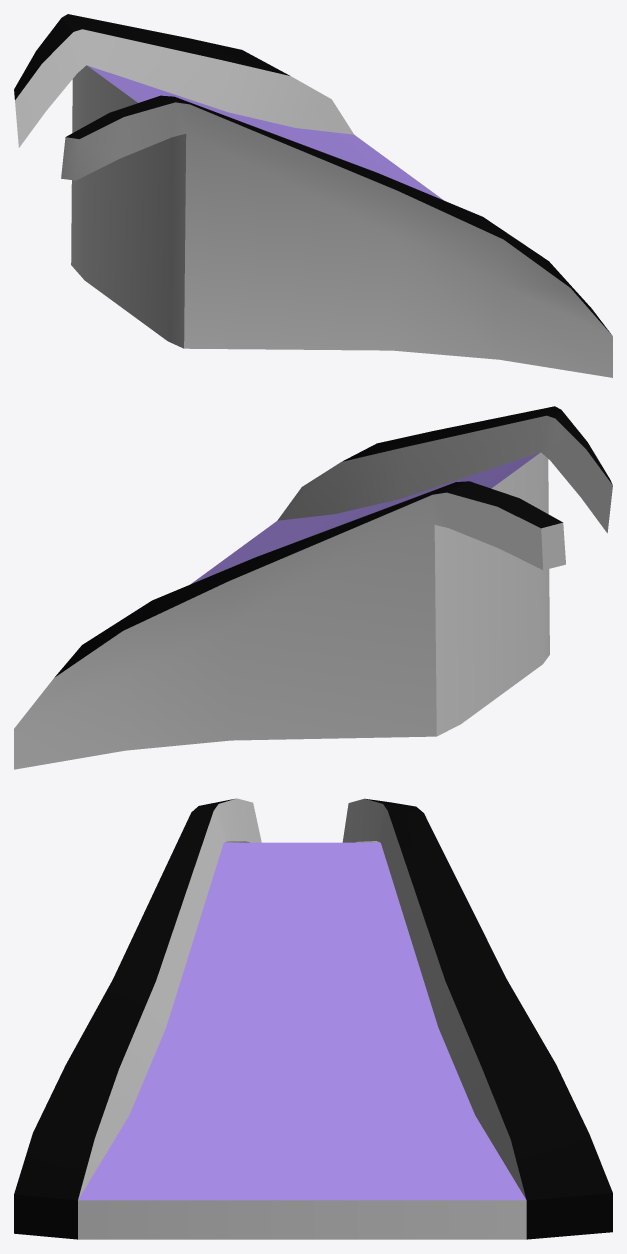
Rendered from monastarystepbase.fbx.
3 views of the same model, one above another, from view 1: azimuth 30°, elevation 25°; view 2: azimuth 150°, elevation 25°; view 3: azimuth 270°, elevation 25° (orthographic). The views are drawn at different scales.
Parts seen in each view (by area): view 1: Stairsbase; view 2: Stairsbase; view 3: Stairsbase.
Part boxes in pixels (x1,y1,x2,y2): Stairsbase: (14,14,612,377); Stairsbase: (14,406,612,769); Stairsbase: (14,798,612,1239).
Bounding box in the file's own units: 2884 × 1824 × 3652.
